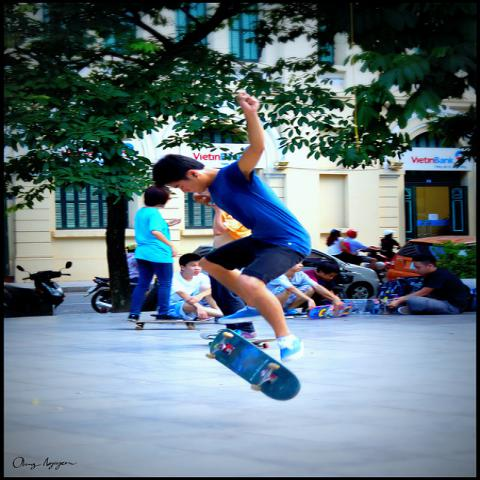car: (387, 235, 475, 281), (304, 249, 380, 300)
motorcycle: (4, 260, 72, 308), (80, 276, 113, 312)
